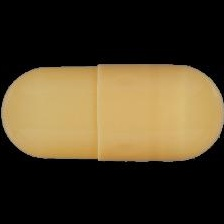16729-041: (0, 0, 224, 224)
